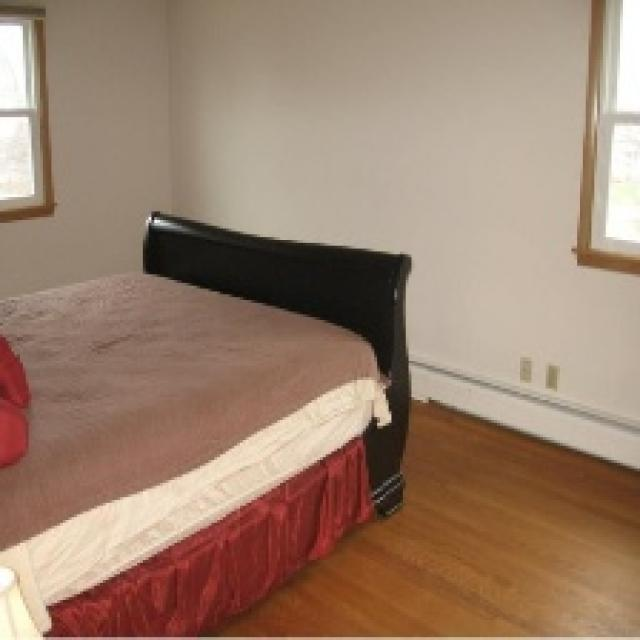Bed: (0, 208, 411, 637)
